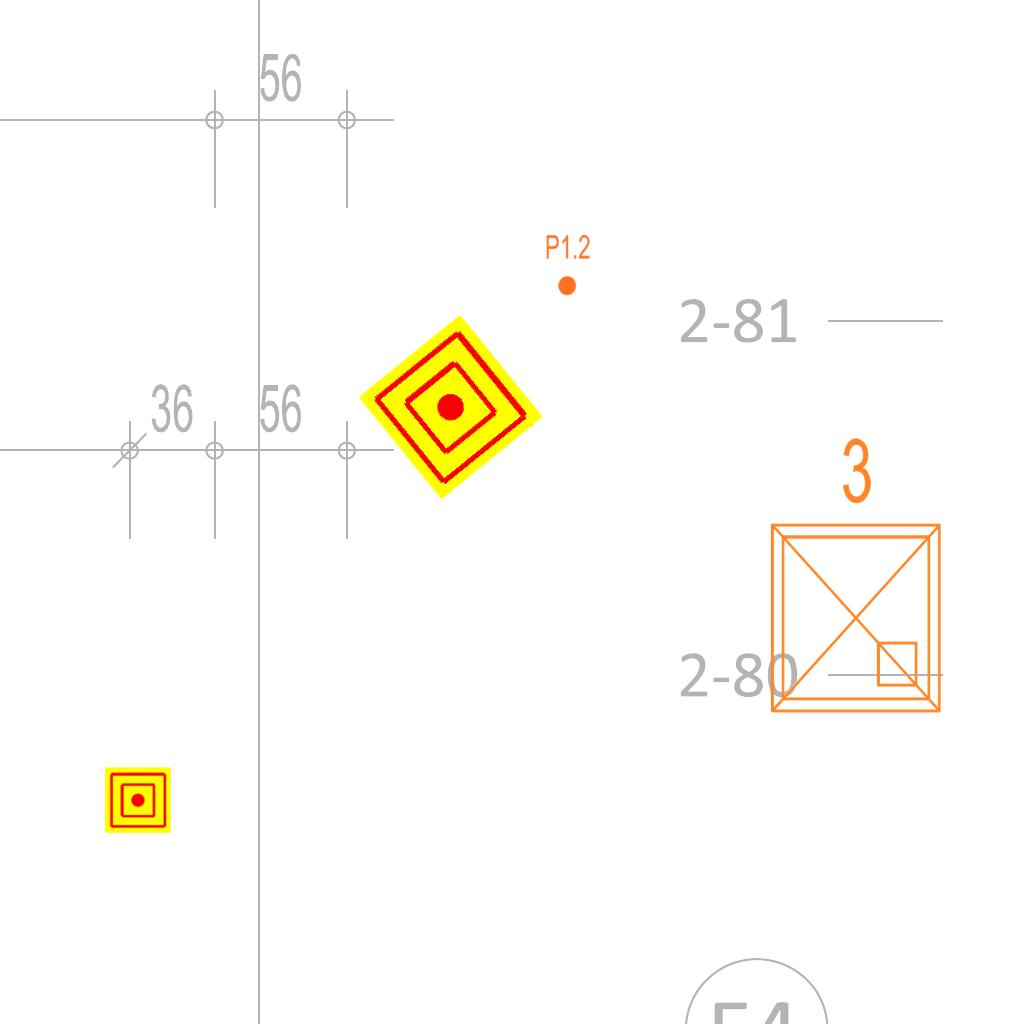Downlight_LED_Einbauleuchten_Flur: (545, 233, 591, 297)
Einbaudownlights_LED_Konferenzraeume: (748, 427, 956, 727)
NAM-Nichtautomatischer_Melder: (358, 314, 544, 500), (105, 767, 171, 833)
